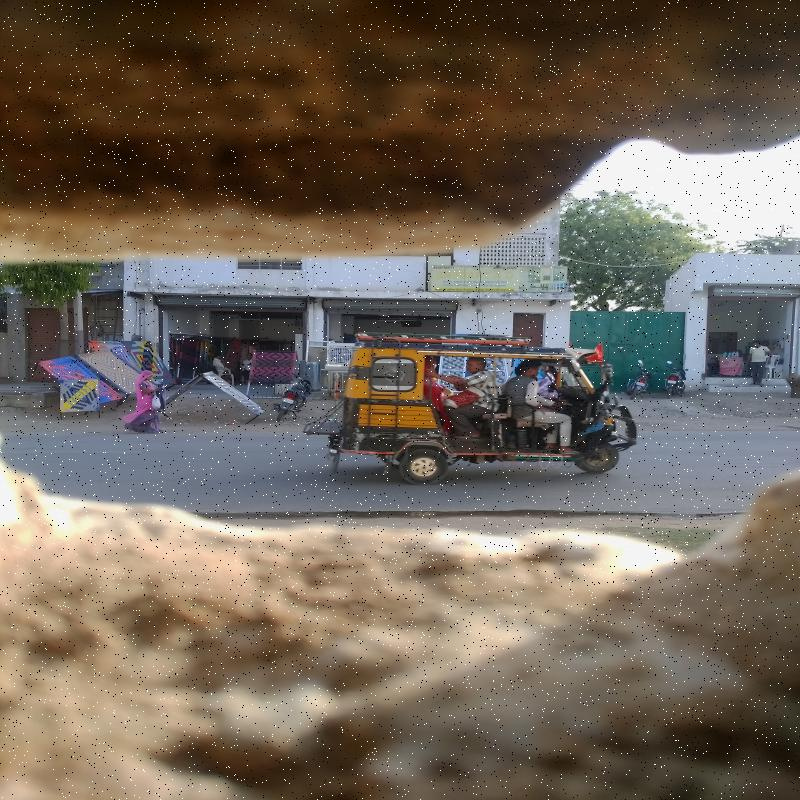auto: (356, 340, 624, 466)
